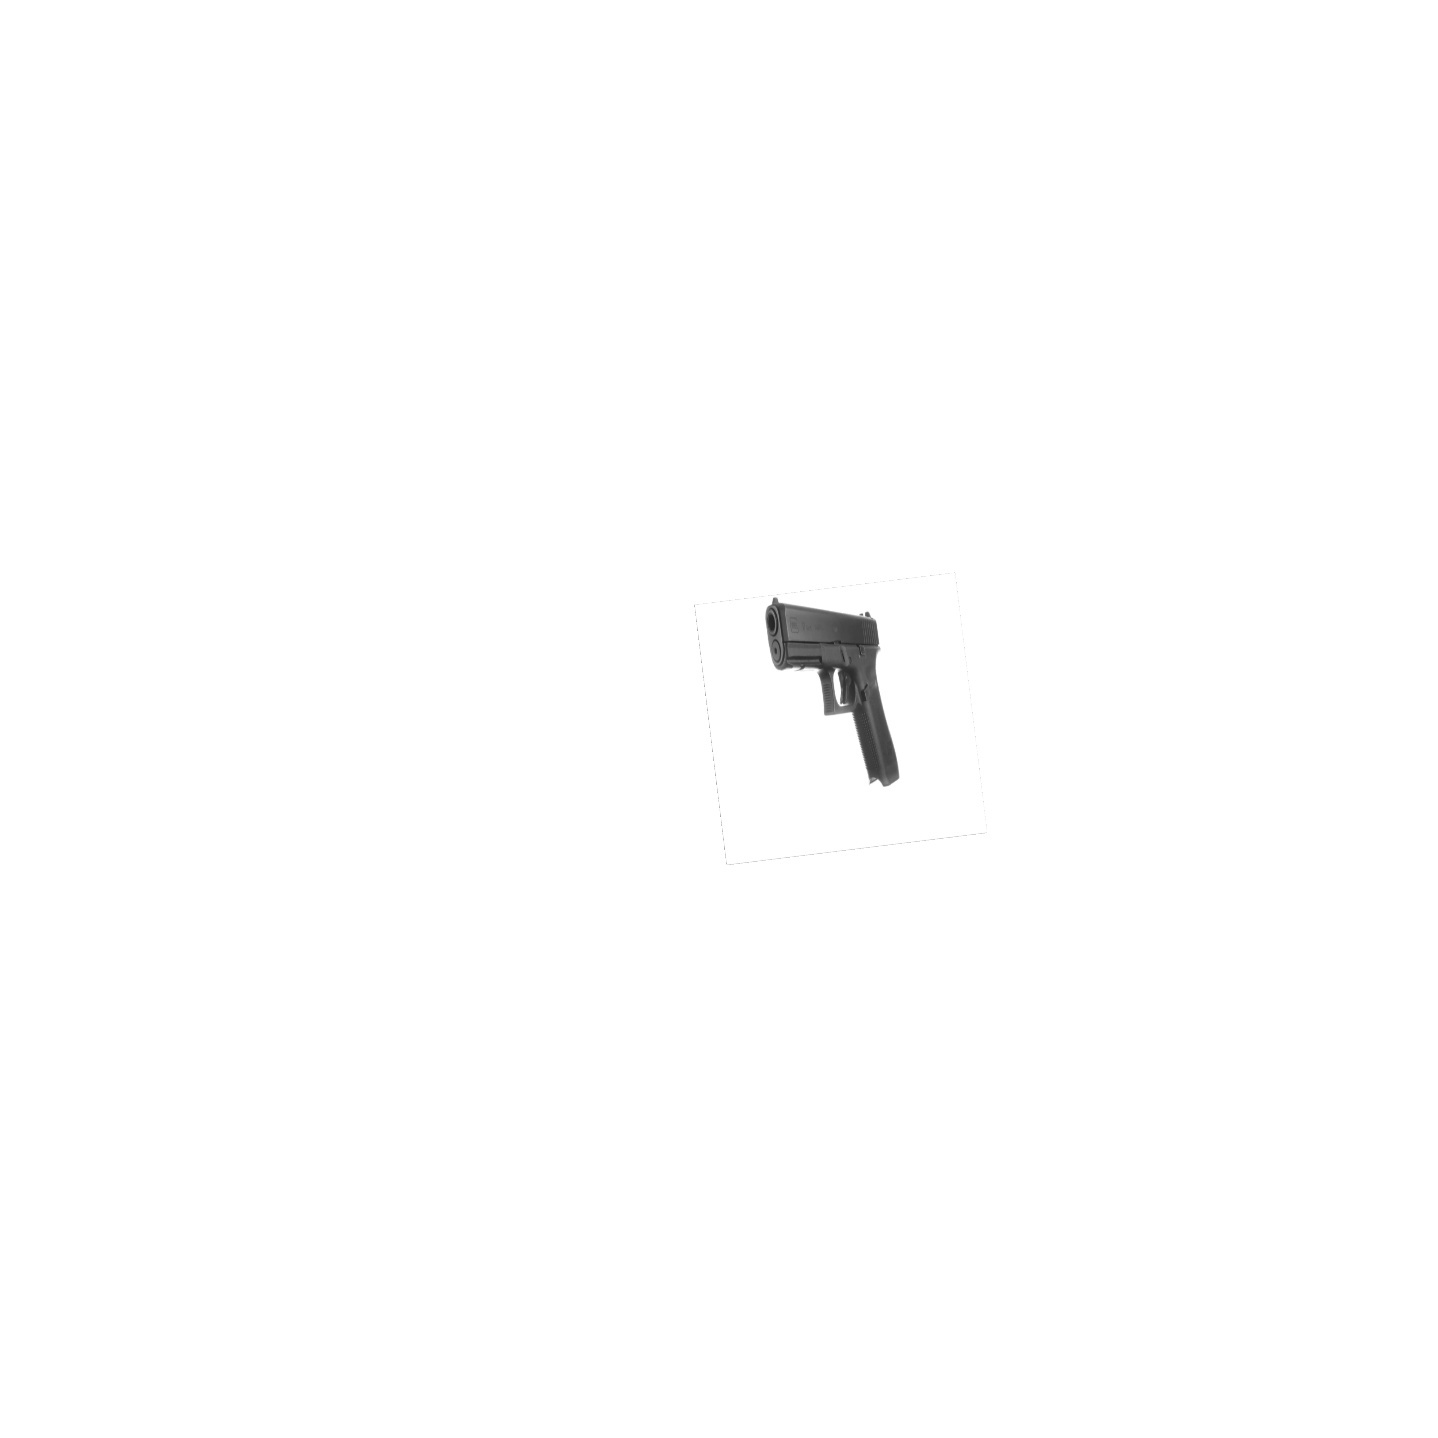gun: (762, 595, 909, 785)
